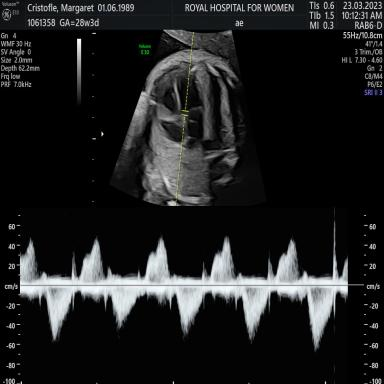Ultrasound-Waves: (26, 215, 348, 384)
